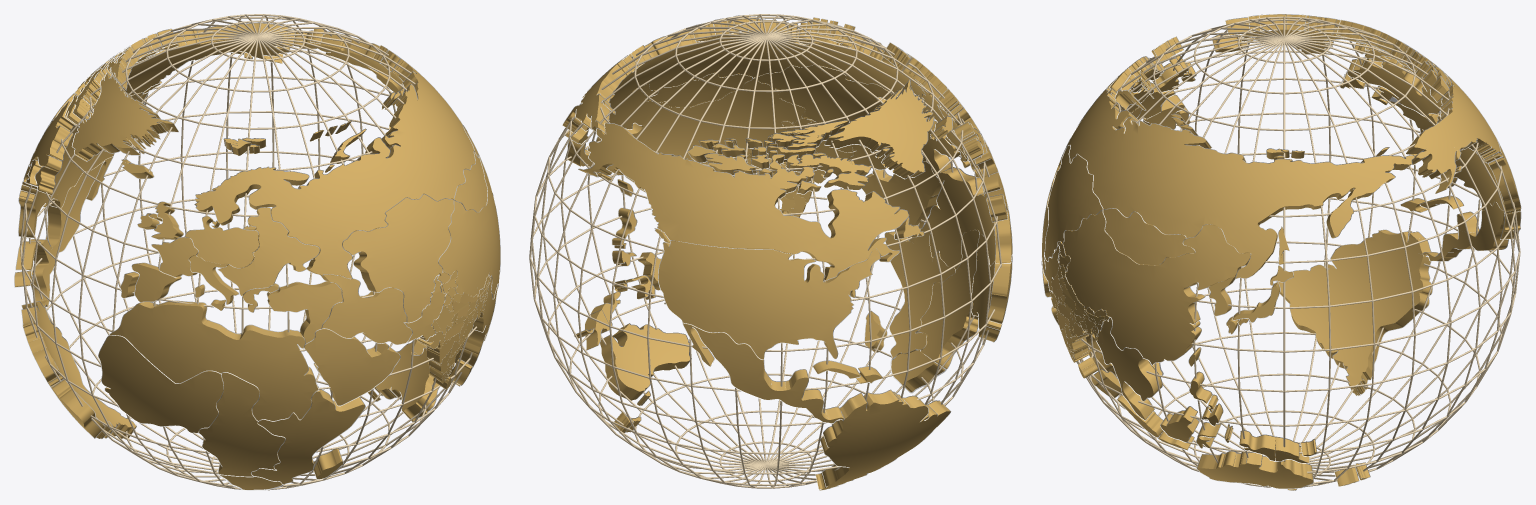
The model's file is Globe.gltf.
3 views of the same model, side by side, from view 1: azimuth 30°, elevation 25°; view 2: azimuth 150°, elevation 25°; view 3: azimuth 270°, elevation 25° (orthographic).
Visible parts, largest first — view 1: circumpolar, frame, north-african, central-asia, east-african.001, east-african, central-african, south american, chinese, middle-east, iranian, mexican (+12 smaller); view 2: circumpolar, frame, american, chinese, south american, central-asia, mexican, east-african, north-african, australia, central-african, east-african.001 (+6 smaller); view 3: circumpolar, frame, chinese, south american, south-east, central-asia, australia, mexican, american, japanese, east-african, papua (+4 smaller).
Boxes of the visible parts, left/top/right/bottom form: circumpolar: left=25, top=22, right=475, bottom=279; frame: left=20, top=14, right=477, bottom=490; north-african: left=109, top=300, right=319, bottom=421; central-asia: left=342, top=150, right=487, bottom=323; east-african.001: left=98, top=335, right=223, bottom=433; east-african: left=251, top=384, right=365, bottom=484; central-african: left=198, top=372, right=285, bottom=477; south american: left=21, top=301, right=136, bottom=439; chinese: left=439, top=125, right=500, bottom=299; middle-east: left=304, top=329, right=400, bottom=406; iranian: left=320, top=274, right=412, bottom=344; mexican: left=14, top=156, right=113, bottom=309; circumpolar: left=562, top=15, right=963, bottom=280; frame: left=529, top=14, right=1001, bottom=488; american: left=654, top=228, right=880, bottom=359; chinese: left=609, top=78, right=805, bottom=182; south american: left=815, top=389, right=951, bottom=490; central-asia: left=647, top=64, right=892, bottom=152; mexican: left=682, top=323, right=882, bottom=423; east-african: left=864, top=221, right=955, bottom=358; north-african: left=927, top=167, right=1012, bottom=270; australia: left=599, top=323, right=691, bottom=433; central-african: left=915, top=229, right=979, bottom=369; east-african.001: left=971, top=234, right=1012, bottom=342; circumpolar: left=1053, top=14, right=1501, bottom=279; frame: left=1076, top=16, right=1520, bottom=487; chinese: left=1062, top=210, right=1250, bottom=365; south american: left=1276, top=229, right=1432, bottom=396; south-east: left=1096, top=316, right=1275, bottom=461; central-asia: left=1044, top=145, right=1194, bottom=265; australia: left=1196, top=450, right=1370, bottom=490; mexican: left=1400, top=195, right=1521, bottom=261; american: left=1389, top=96, right=1521, bottom=214; japanese: left=1226, top=265, right=1293, bottom=334; east-african: left=1051, top=306, right=1121, bottom=398; papua: left=1275, top=436, right=1317, bottom=463.
Size of the model in its own units: 0.612 by 0.612 by 0.6219.
